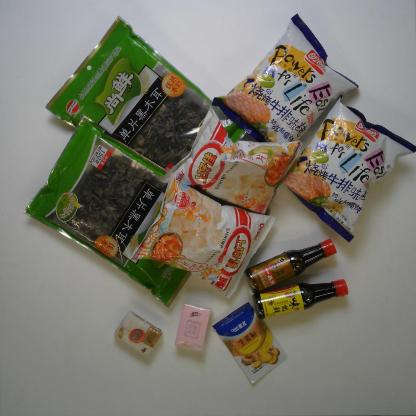Dried Food: (25, 116, 219, 306), (44, 16, 221, 186)
Puffed Food: (213, 13, 361, 156), (274, 92, 415, 242), (129, 171, 273, 298), (167, 107, 306, 214)
Seasoner: (210, 300, 291, 390), (243, 238, 338, 295), (254, 278, 350, 319)
Tissue: (114, 311, 164, 357), (173, 301, 211, 353)
